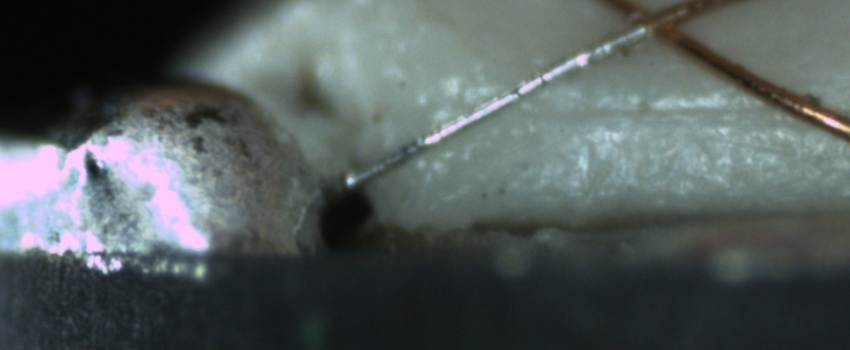CL: (613, 1, 700, 47)
DL: (511, 80, 775, 138)
TS: (331, 18, 648, 193)
